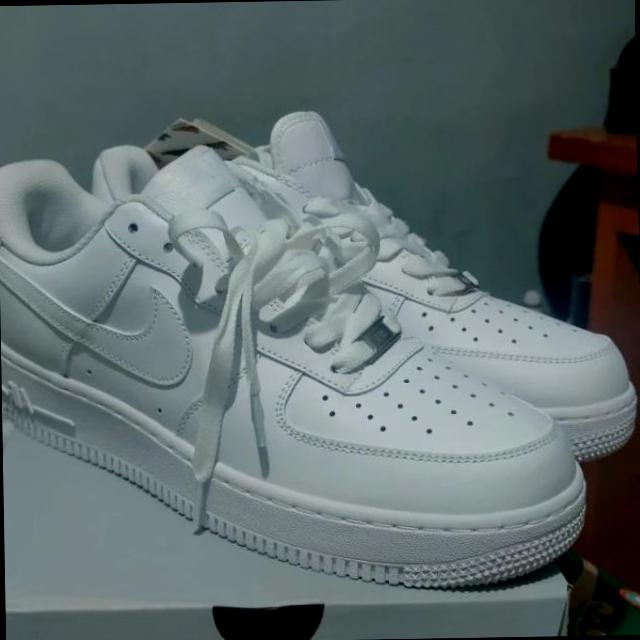nike_original_airforce: (0, 138, 589, 598), (149, 104, 640, 467)
